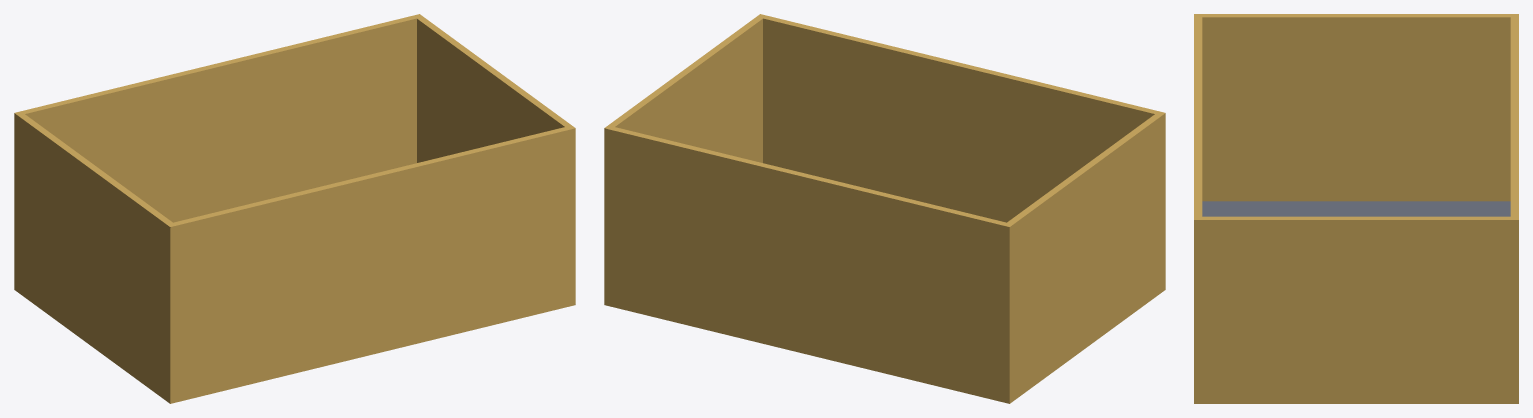
Rendered from Building 2.fbx.
The picture shows the model from 3 angles, left to right: view 1: azimuth 30°, elevation 25°; view 2: azimuth 150°, elevation 25°; view 3: azimuth 270°, elevation 25°; orthographic projection. The views are drawn at different scales.
Visible parts, largest first — view 1: Building_2; view 2: Building_2; view 3: Building_2.
Part boxes in pixels (x1,y1,x2,y2): Building_2: (14, 14, 575, 403); Building_2: (604, 14, 1165, 403); Building_2: (1194, 14, 1518, 403).
Size of the model in its own units: 1200 by 500 by 800.
